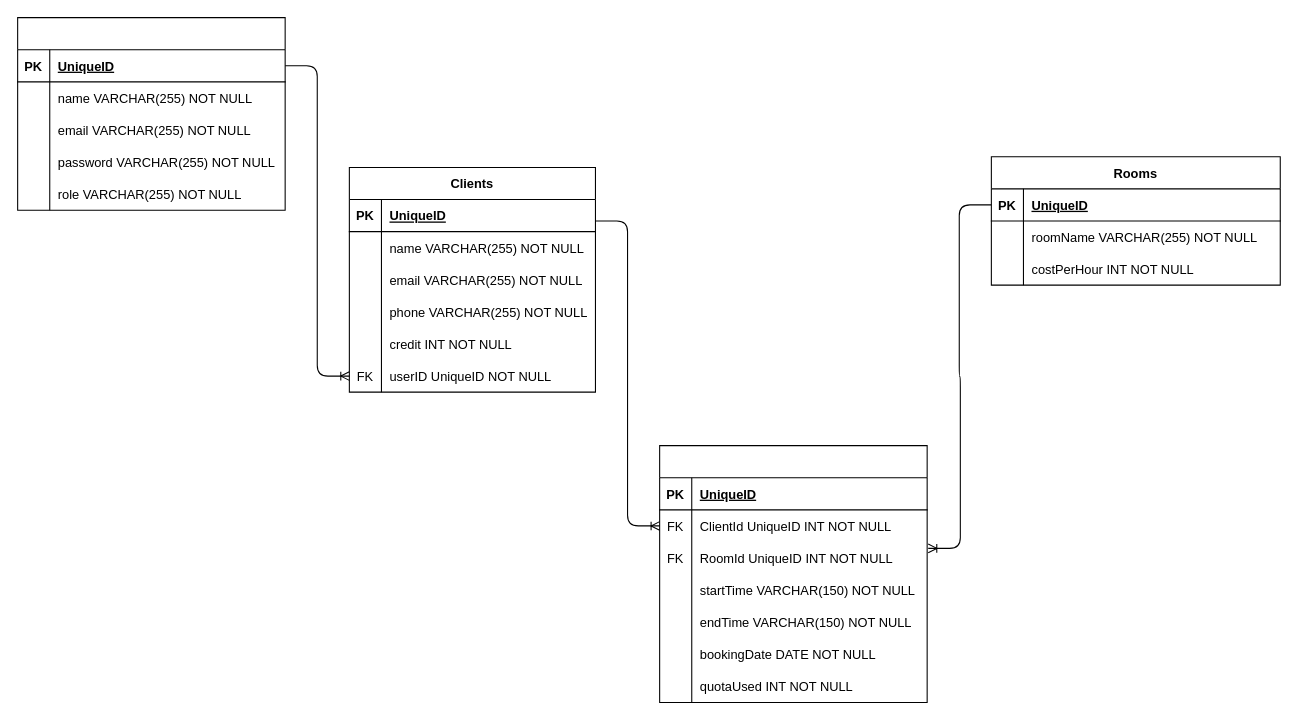
Image size: 1298x720. Some labels were removed from this diagram. The box of each missing label's shape, as (x1, y1, x2, y2) in pixels:
RoomUsages: (659, 445, 927, 702)
Users: (17, 17, 285, 210)
